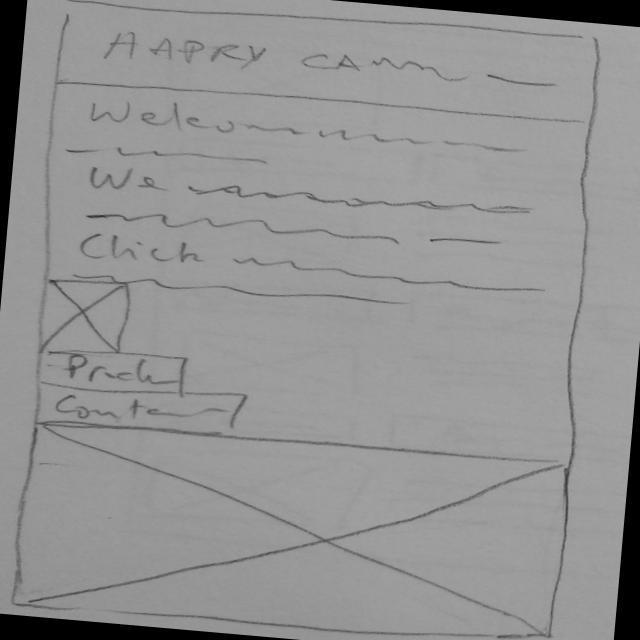button: (25, 374, 256, 444), (31, 343, 199, 402)
container: (1, 1, 617, 640)
image: (4, 412, 577, 640), (35, 275, 136, 358)
label: (87, 91, 551, 171), (90, 23, 477, 95), (69, 226, 223, 273), (81, 159, 182, 200)
text: (84, 200, 519, 262), (192, 172, 541, 235), (76, 269, 440, 319), (226, 249, 565, 302), (65, 133, 279, 178)
